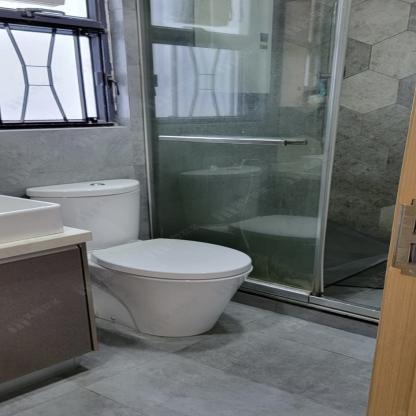Toilet: (24, 178, 252, 337)
Toilet Sink: (0, 194, 67, 243)
Water Cubicle: (140, 0, 415, 331)
